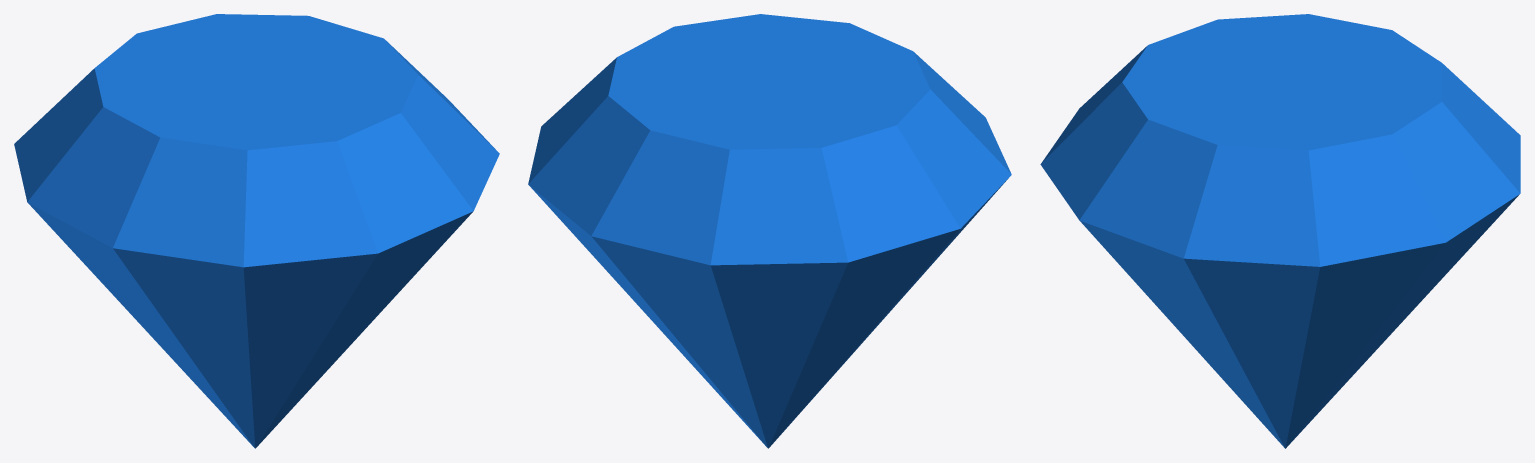
The model's file is diamond.fbx.
The picture shows the model from 3 angles, left to right: view 1: azimuth 30°, elevation 25°; view 2: azimuth 150°, elevation 25°; view 3: azimuth 270°, elevation 25°; orthographic projection.
Parts seen in each view (by area): view 1: Cone; view 2: Cone; view 3: Cone.
Part boxes in pixels (x1=…): Cone: x1=14, y1=14, x2=499, y2=448; Cone: x1=528, y1=14, x2=1011, y2=448; Cone: x1=1040, y1=14, x2=1520, y2=448.
Bounding box in the file's own units: 198 × 165 × 196.
